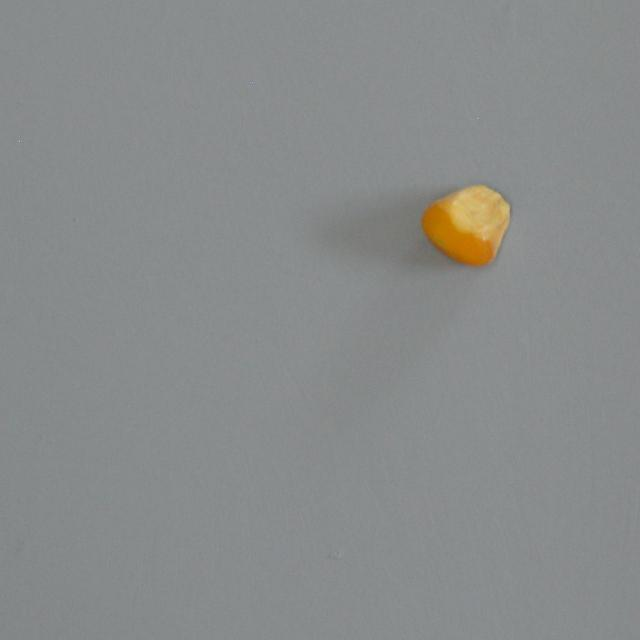entero: (419, 182, 512, 268)
